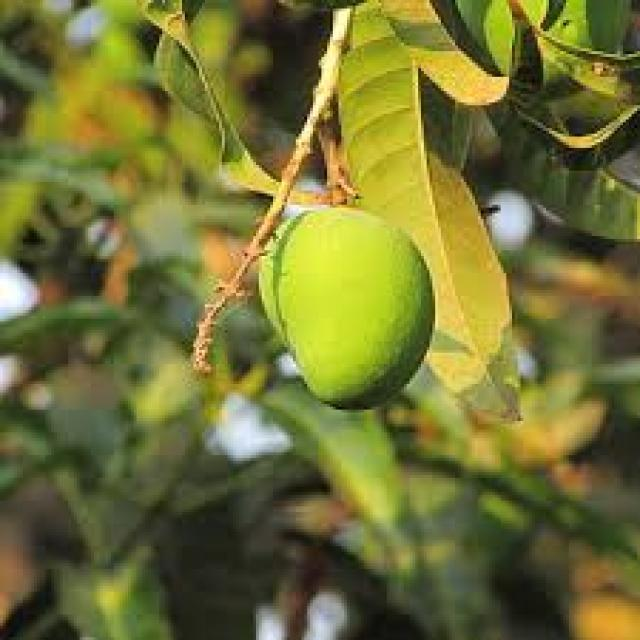Mango: (256, 204, 435, 410)
